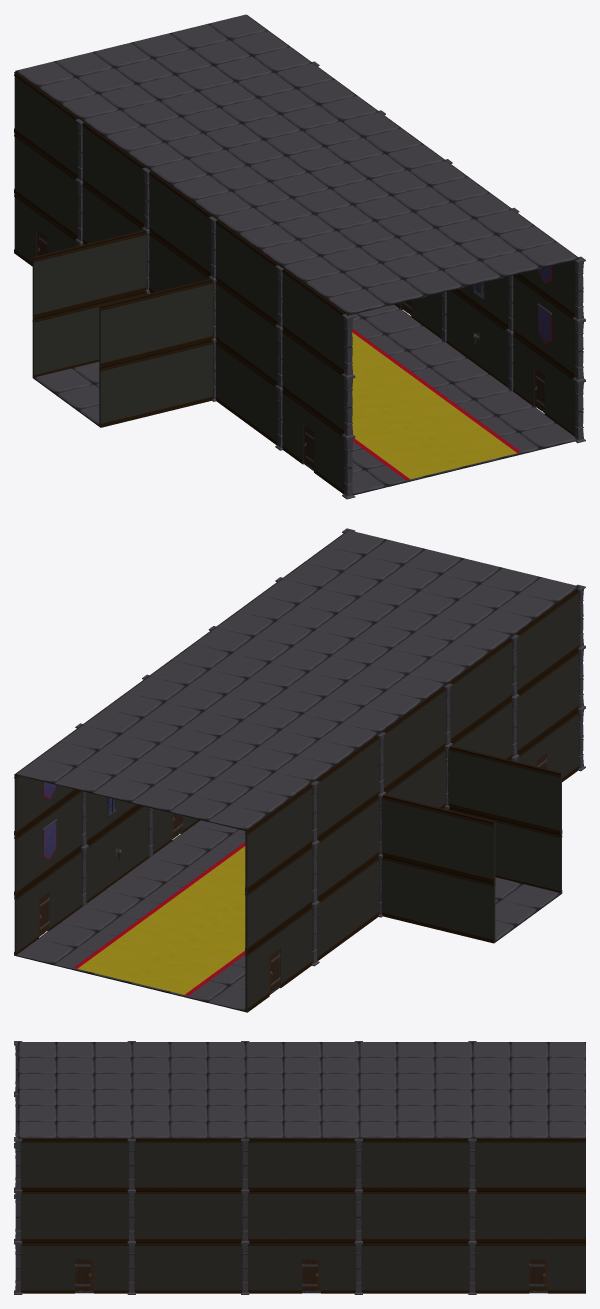
Rendered from CastleModule3 1.fbx.
3 views of the same model, one above another, from view 1: azimuth 30°, elevation 25°; view 2: azimuth 150°, elevation 25°; view 3: azimuth 270°, elevation 25° (orthographic). The views are drawn at different scales.
Parts seen in each view (by area): view 1: HalfWallHall.340, HalfWallHall.351, CarpetHall.063, CarpetHall.069, CarpetHall.062, CarpetHall.064, CarpetHall.065, CarpetHall.067, CarpetHall.071, HalfWallHall.345, HalfWallHall.334, HalfWallHall.336 (+178 smaller); view 2: HalfWallHall.351, HalfWallHall.340, CarpetHall.087, CarpetHall.082, CarpetHall.086, CarpetHall.088, CarpetHall.084, CarpetHall.089, CarpetHall.090, HalfWallHall.334, HalfWallHall.345, HalfWallHall.337 (+185 smaller); view 3: WallDoorHall.016, WallDoorHall.012, WallDoorHall.014, HalfWallHall.629, HalfWallHall.631, HalfWallHall.632, HalfWallHall.641, HalfWallHall.642, HalfWallHall.643, HalfWallHall.647, HalfWallHall.648, HalfWallHall.305 (+170 smaller).
Boxes of the visible parts, bbox=[...] form: HalfWallHall.340: bbox=[32, 252, 53, 318]; HalfWallHall.351: bbox=[99, 301, 119, 367]; CarpetHall.063: bbox=[442, 436, 521, 466]; CarpetHall.069: bbox=[375, 387, 454, 417]; CarpetHall.062: bbox=[384, 450, 463, 480]; CarpetHall.064: bbox=[362, 434, 440, 463]; CarpetHall.065: bbox=[420, 420, 498, 449]; CarpetHall.067: bbox=[397, 403, 476, 433]; CarpetHall.071: bbox=[353, 371, 432, 401]; HalfWallHall.345: bbox=[99, 363, 119, 427]; HalfWallHall.334: bbox=[32, 314, 53, 378]; HalfWallHall.336: bbox=[109, 234, 130, 299]; HalfWallHall.351: bbox=[541, 768, 562, 834]; HalfWallHall.340: bbox=[475, 817, 495, 882]; CarpetHall.087: bbox=[153, 949, 232, 979]; CarpetHall.082: bbox=[162, 886, 241, 916]; CarpetHall.086: bbox=[118, 919, 196, 949]; CarpetHall.088: bbox=[96, 935, 174, 965]; CarpetHall.084: bbox=[140, 903, 218, 932]; CarpetHall.089: bbox=[131, 965, 210, 995]; CarpetHall.090: bbox=[73, 951, 152, 981]; HalfWallHall.334: bbox=[475, 878, 495, 943]; HalfWallHall.345: bbox=[541, 830, 562, 894]; HalfWallHall.337: bbox=[417, 803, 437, 868]; WallDoorHall.016: bbox=[510, 1242, 547, 1293]; WallDoorHall.012: bbox=[56, 1242, 93, 1293]; WallDoorHall.014: bbox=[283, 1242, 320, 1293]; HalfWallHall.629: bbox=[150, 1138, 169, 1190]; HalfWallHall.631: bbox=[188, 1138, 207, 1190]; HalfWallHall.632: bbox=[207, 1138, 226, 1190]; HalfWallHall.641: bbox=[377, 1138, 396, 1190]; HalfWallHall.642: bbox=[396, 1138, 415, 1190]; HalfWallHall.643: bbox=[415, 1138, 434, 1190]; HalfWallHall.647: bbox=[491, 1138, 510, 1190]; HalfWallHall.648: bbox=[510, 1138, 529, 1190]; HalfWallHall.305: bbox=[150, 1190, 169, 1242].
Size of the model in its own units: 1822 by 910 by 3022.
